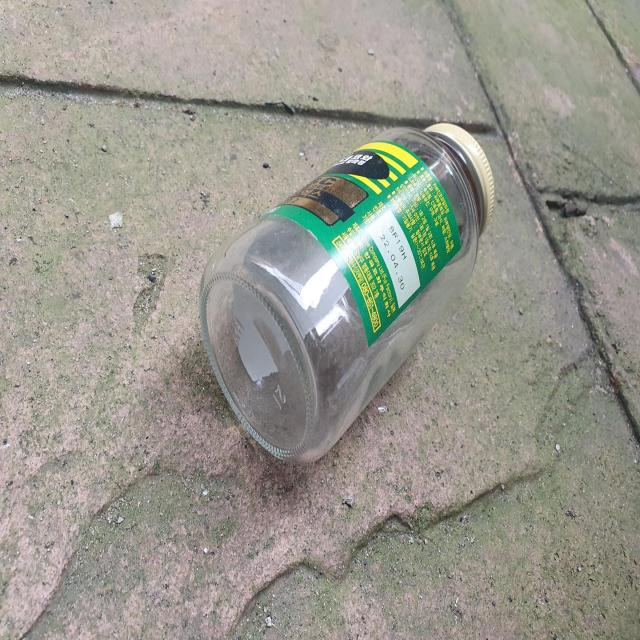glass: (199, 123, 495, 464)
